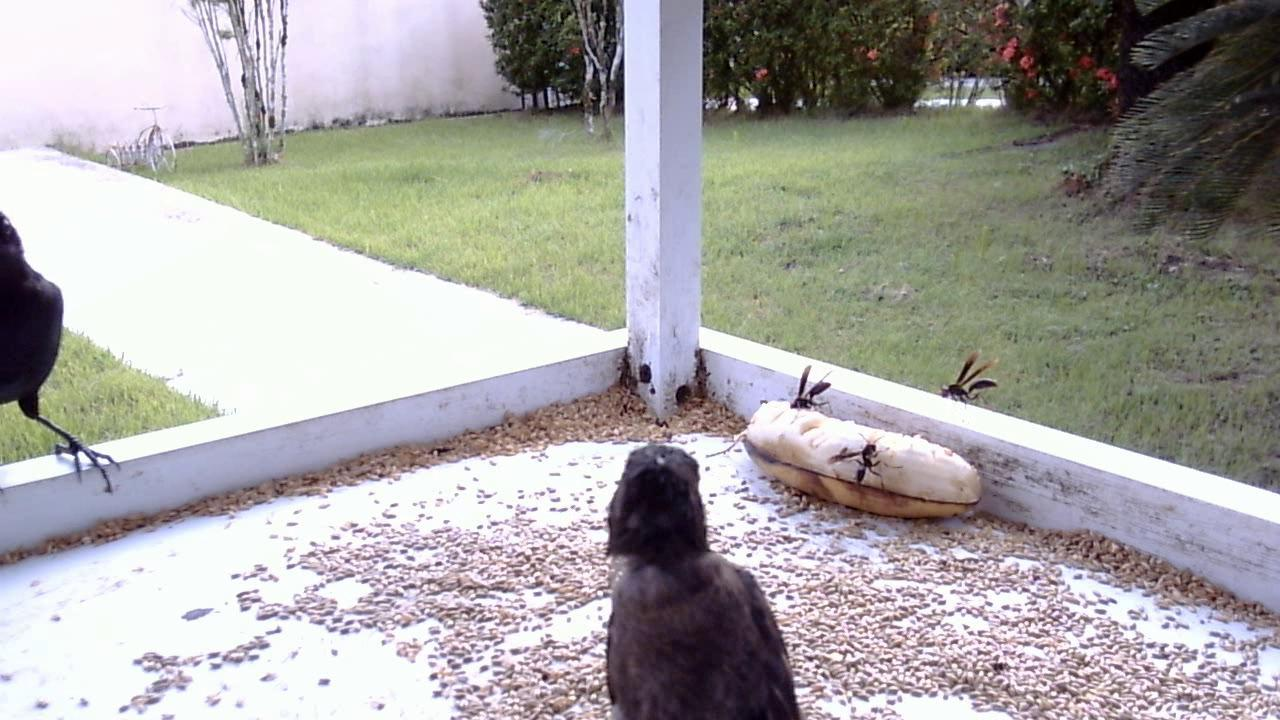chupim: (594, 437, 811, 715), (1, 192, 133, 508)
